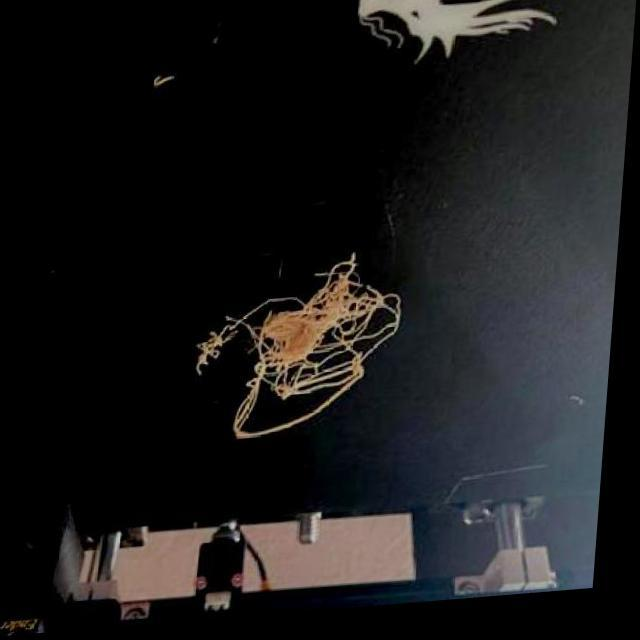spaghetti: (197, 255, 412, 448)
